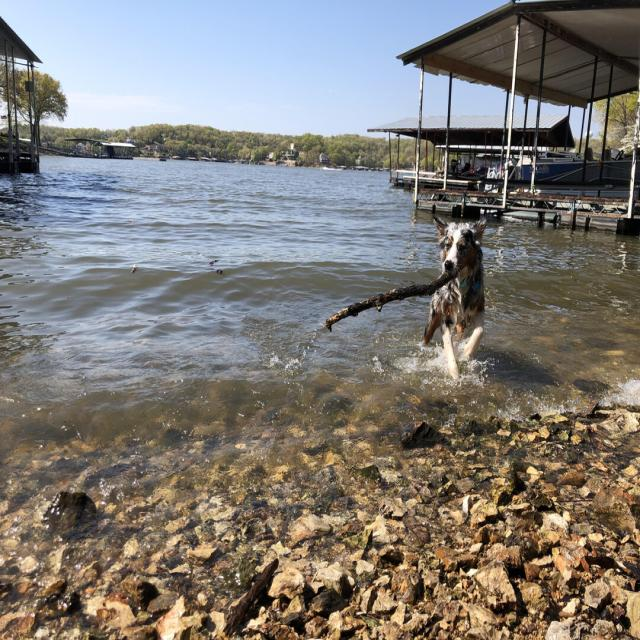dog: (422, 202, 504, 392)
